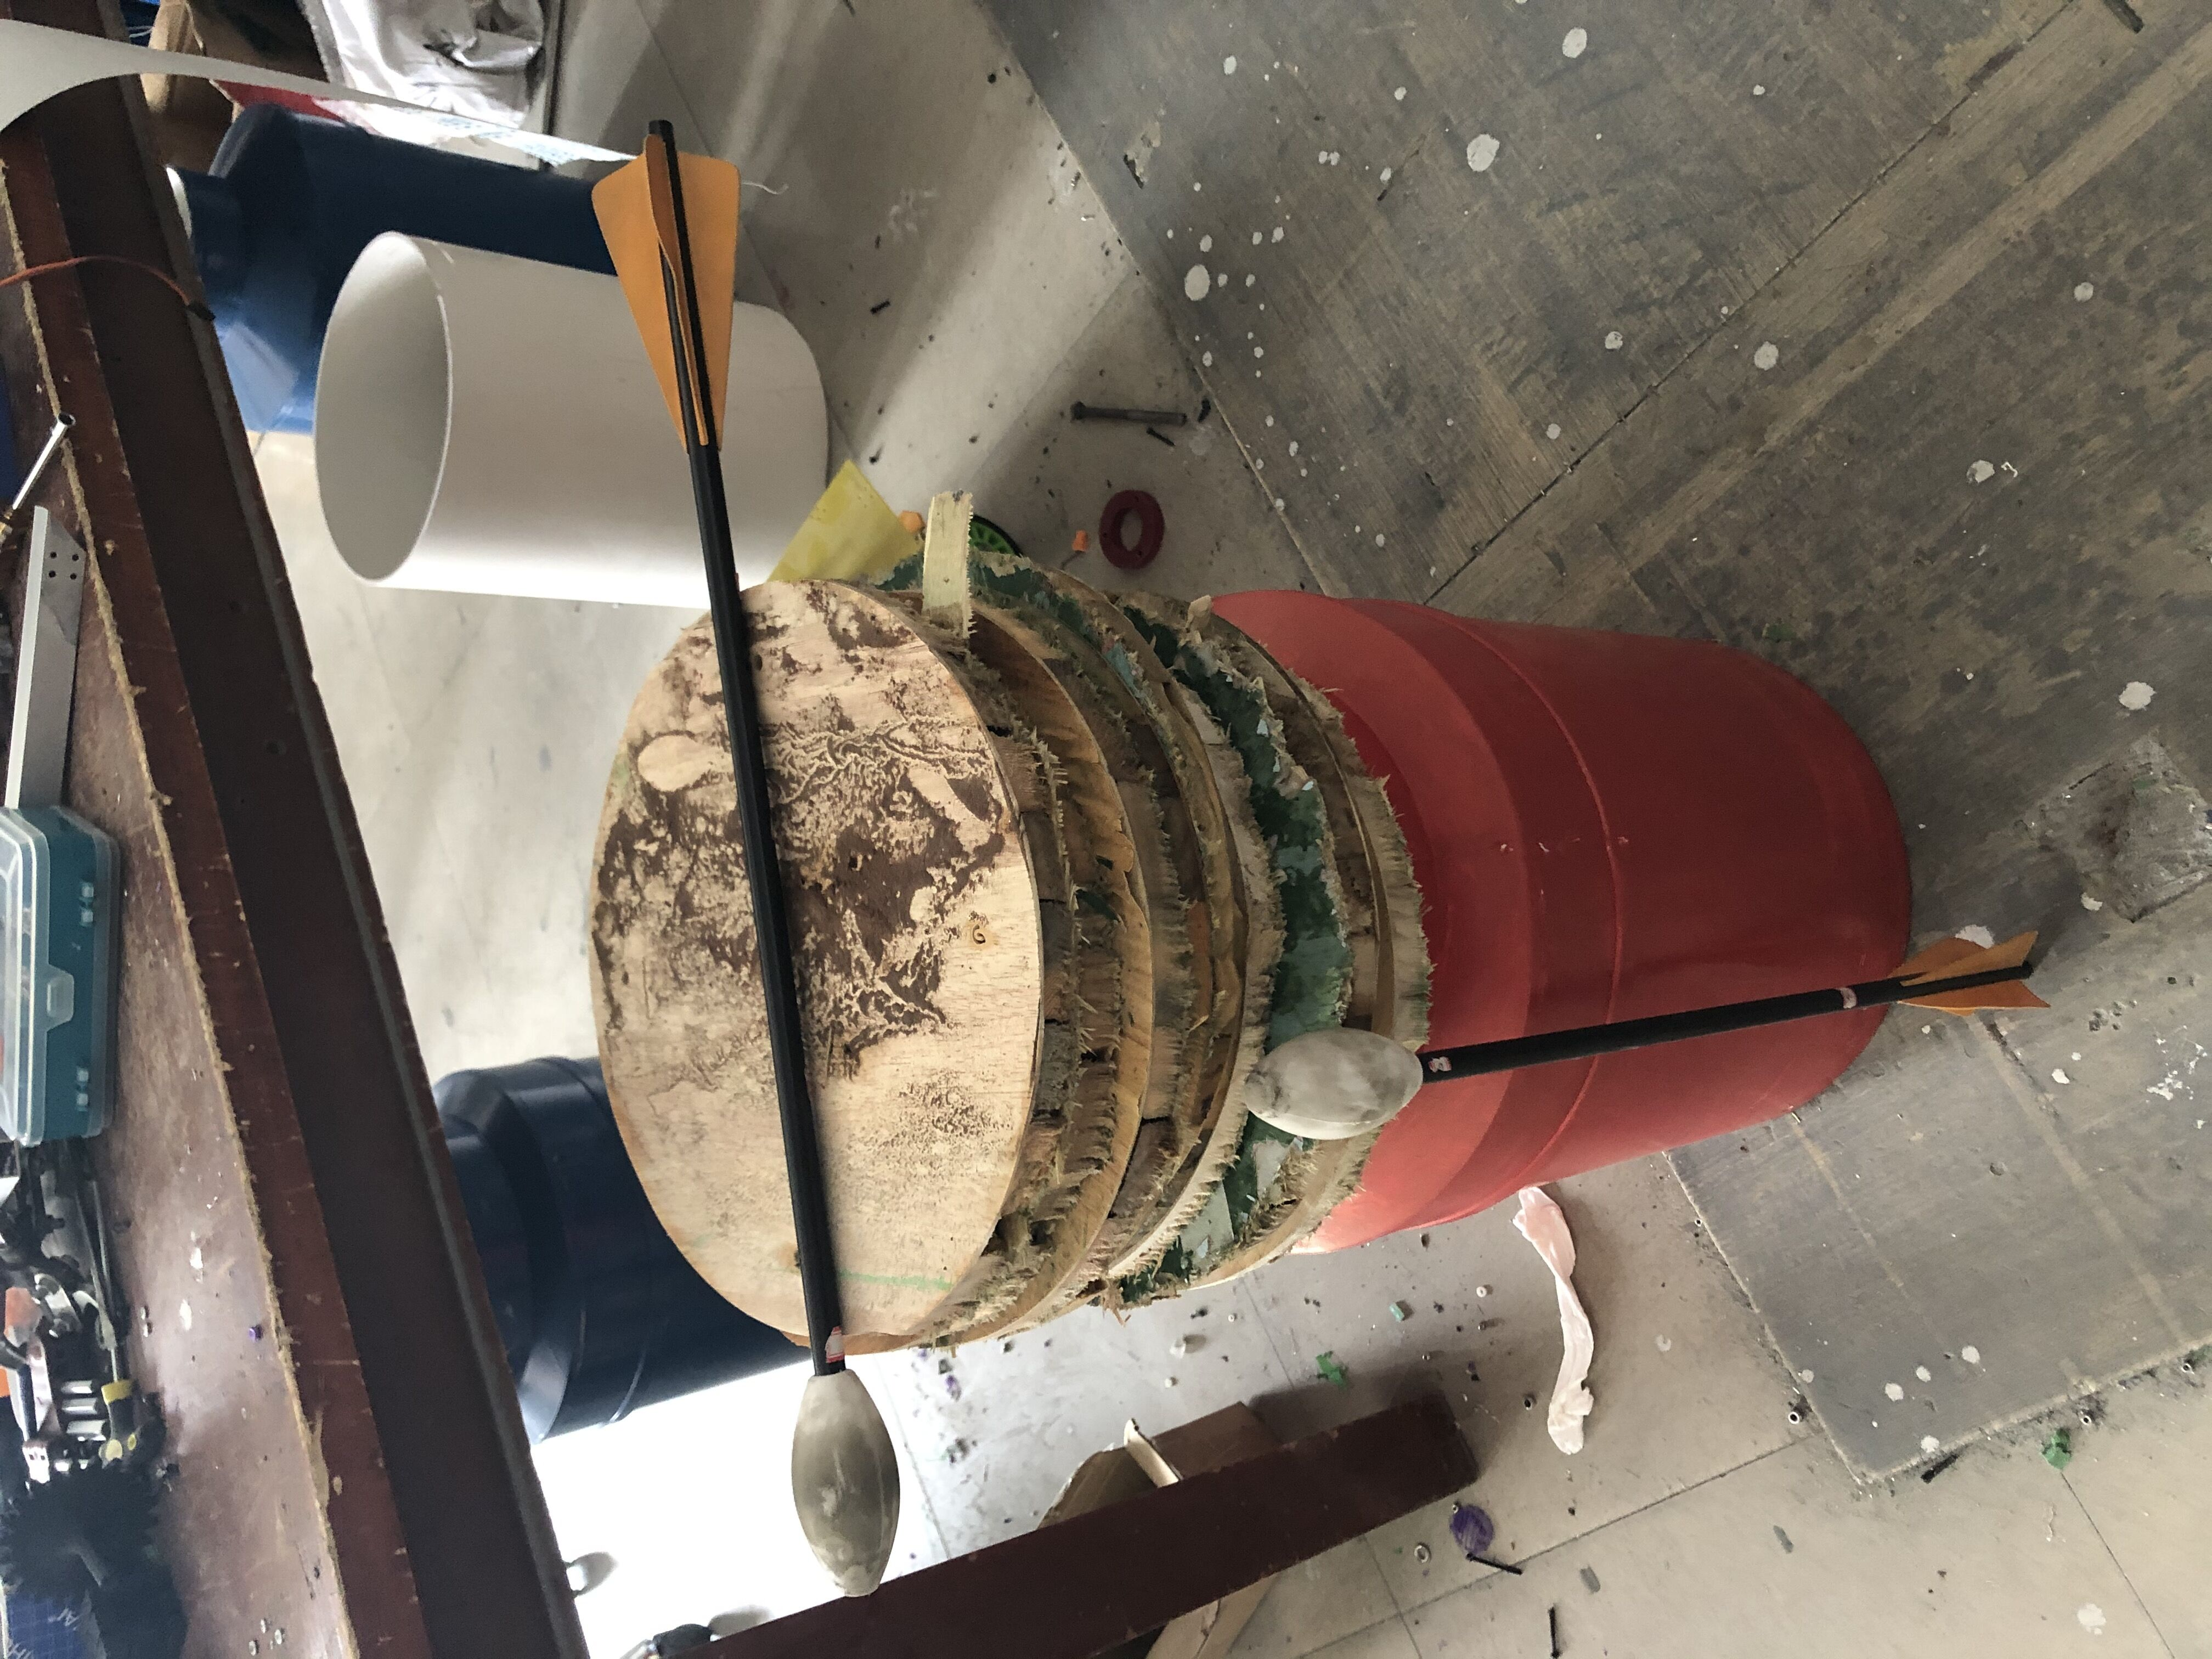arrow: (589, 119, 902, 1595), (1238, 925, 2057, 1145)
arrowFront: (789, 1370, 904, 1596), (1244, 1023, 1430, 1143)
